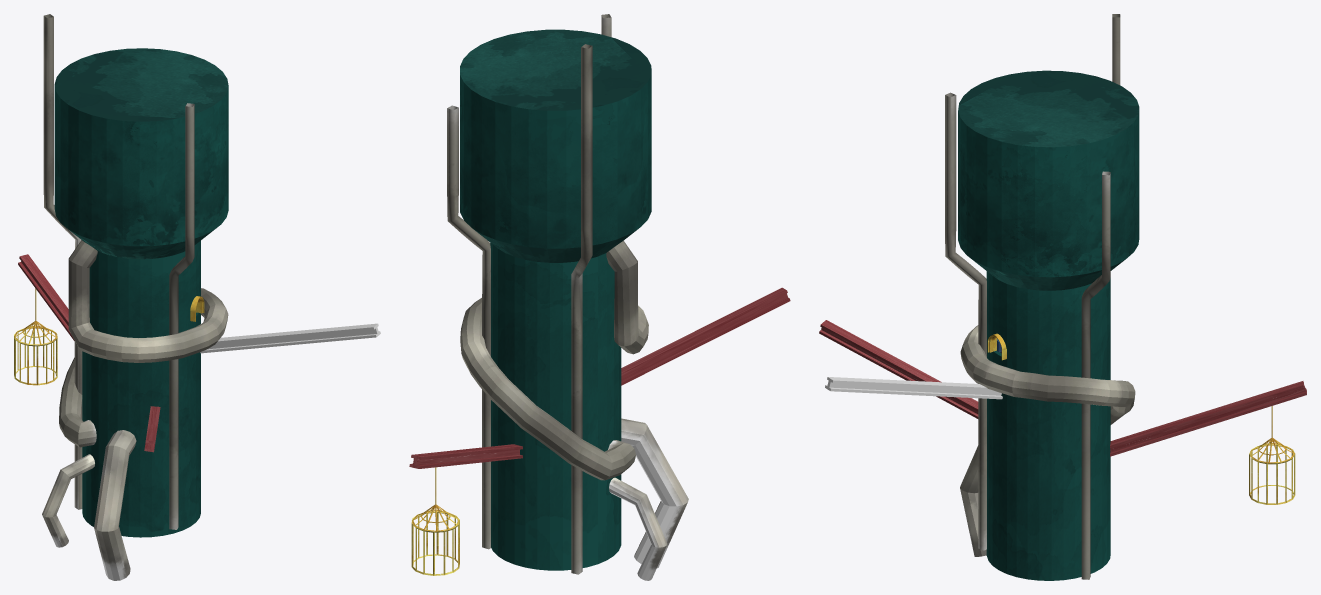
The model's file is towerexport.fbx.
The picture shows the model from 3 angles, left to right: view 1: azimuth 30°, elevation 25°; view 2: azimuth 150°, elevation 25°; view 3: azimuth 270°, elevation 25°; orthographic projection. The views are drawn at different scales.
Visible parts, largest first — view 1: Cylinder.003, Plane.008, Plane.004, Plane.007, Plane.003, Cube.013, Plane.006, Cube.014, Cylinder.023, Cube.015; view 2: Cylinder.003, Plane.008, Plane.003, Plane.005, Plane.007, Cube.015, Plane.006, Cube.014, Cylinder.023, Cone; view 3: Cylinder.003, Plane.008, Plane.004, Plane.005, Cube.014, Cube.013, Cube.015, Plane.007, Cylinder.023, Plane.003.
Part boxes in pixels (x1,y1,x2,y2): Cylinder.003: [54, 48, 228, 537]; Plane.008: [59, 240, 228, 447]; Plane.004: [169, 103, 194, 529]; Plane.007: [94, 430, 136, 580]; Plane.003: [43, 14, 82, 509]; Cube.013: [200, 323, 380, 353]; Plane.006: [42, 454, 94, 547]; Cube.014: [18, 254, 74, 340]; Cylinder.023: [14, 327, 57, 385]; Cube.015: [144, 406, 160, 452]; Cylinder.003: [460, 29, 651, 570]; Plane.008: [460, 240, 648, 480]; Plane.003: [571, 44, 592, 574]; Plane.005: [447, 105, 490, 549]; Plane.007: [621, 418, 688, 568]; Cube.015: [621, 287, 790, 385]; Plane.006: [609, 477, 667, 580]; Cube.014: [409, 444, 522, 468]; Cylinder.023: [411, 511, 459, 575]; Cone: [412, 504, 459, 531]; Cylinder.003: [958, 70, 1139, 580]; Plane.008: [960, 325, 1135, 424]; Plane.004: [945, 92, 986, 550]; Plane.005: [1081, 171, 1110, 579]; Cube.014: [1110, 381, 1306, 456]; Cube.013: [825, 377, 1002, 399]; Cube.015: [819, 320, 978, 418]; Plane.007: [960, 445, 986, 556]; Cylinder.023: [1249, 444, 1295, 504]; Plane.003: [1112, 14, 1120, 84].
Bounding box in the file's own units: 4870 × 10045 × 8239.
